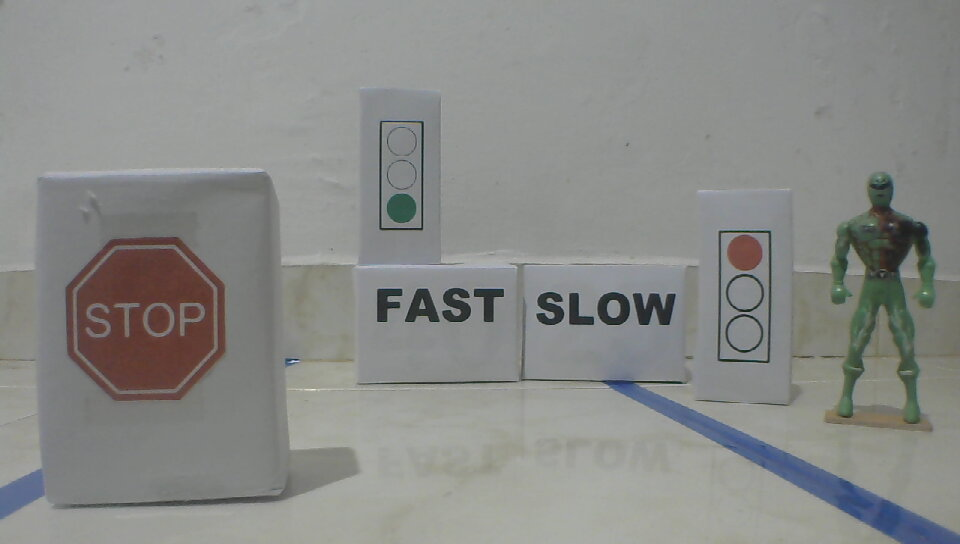Fast: (376, 287, 508, 325)
Green Traffic Light: (376, 118, 426, 234)
Person: (826, 171, 939, 427)
Red Traffic Light: (715, 229, 773, 367)
Slow: (533, 290, 680, 328)
Stop Sign: (65, 236, 228, 400)
